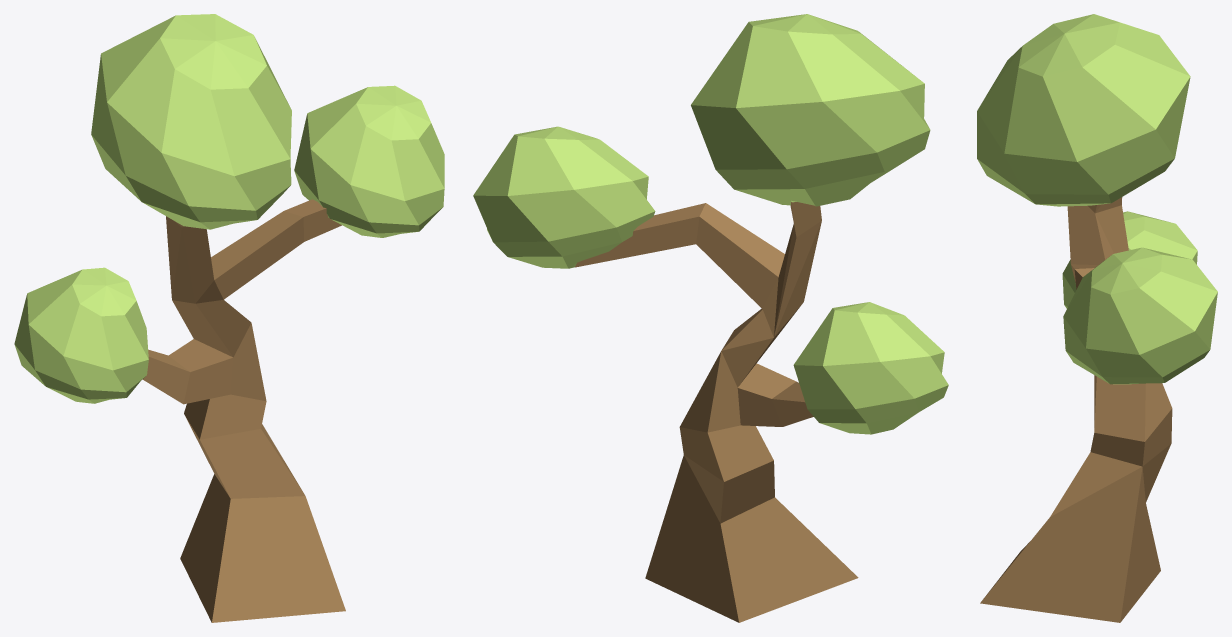
File: TreeB.fbx
3 views of the same model, side by side, from view 1: azimuth 30°, elevation 25°; view 2: azimuth 150°, elevation 25°; view 3: azimuth 270°, elevation 25° (orthographic). The views are drawn at different scales.
Visible parts, largest first — view 1: Tree; view 2: Tree; view 3: Tree.
Part boxes in pixels (bbox=[...]): Tree: bbox=[14, 14, 444, 622]; Tree: bbox=[473, 14, 948, 622]; Tree: bbox=[977, 14, 1217, 622].
Bounding box in the file's own units: 616 × 778 × 317.
